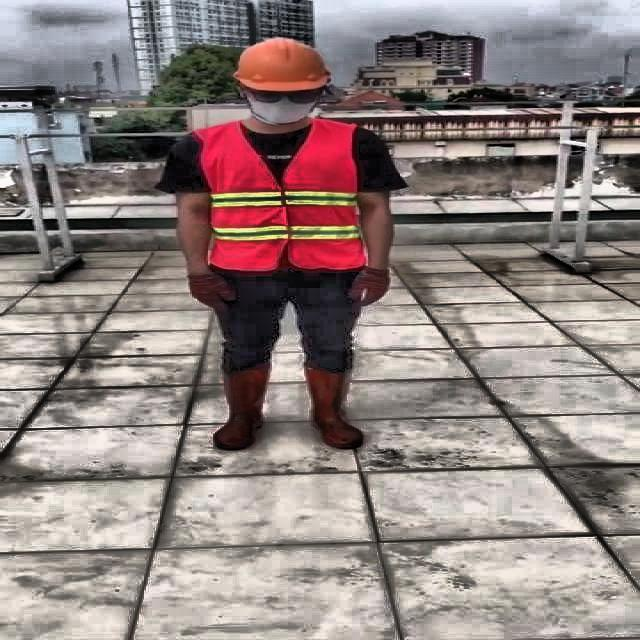safety_helmet: (228, 31, 336, 94)
safety_jacket: (198, 120, 364, 272)
